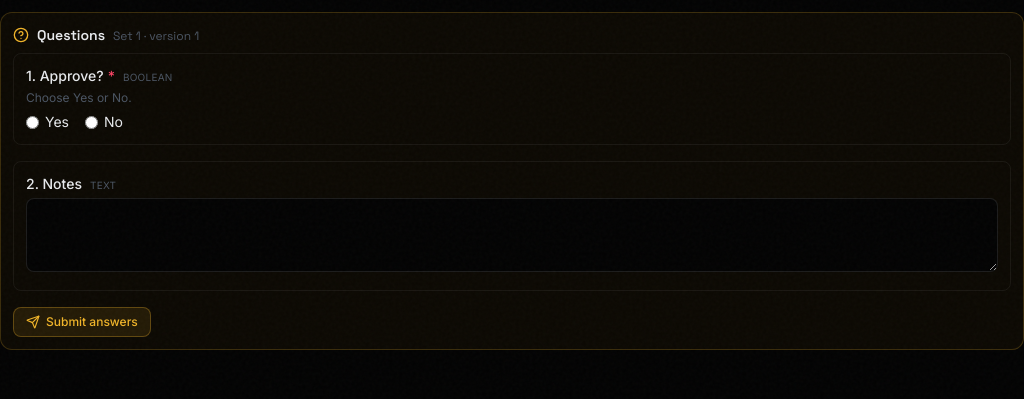
Test: MissionQuestionCard — draft persistence & recovery › shows a refresh message on 412 RUN_VERSION_MISMATCH without applying
The image size is (1024, 399).
Click the radio button labelled "Yes" at (32,122), box [26,116,39,128]
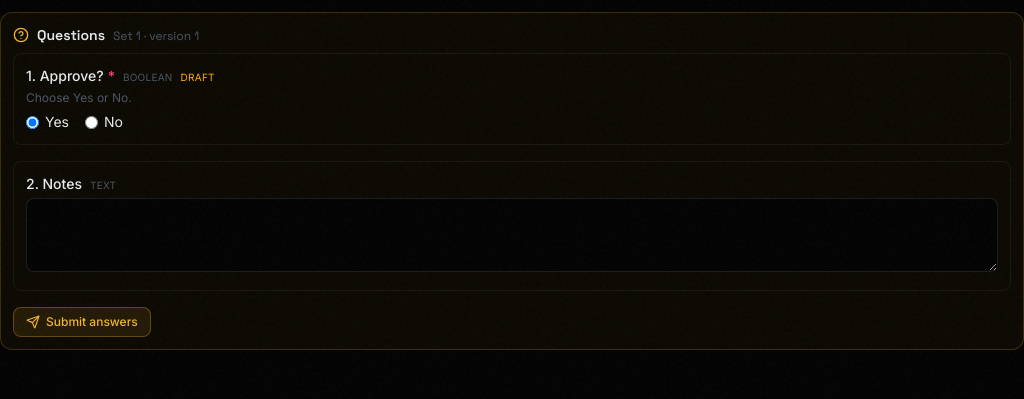
Click the button "Submit answers" at (82,322), box [13,307,151,337]
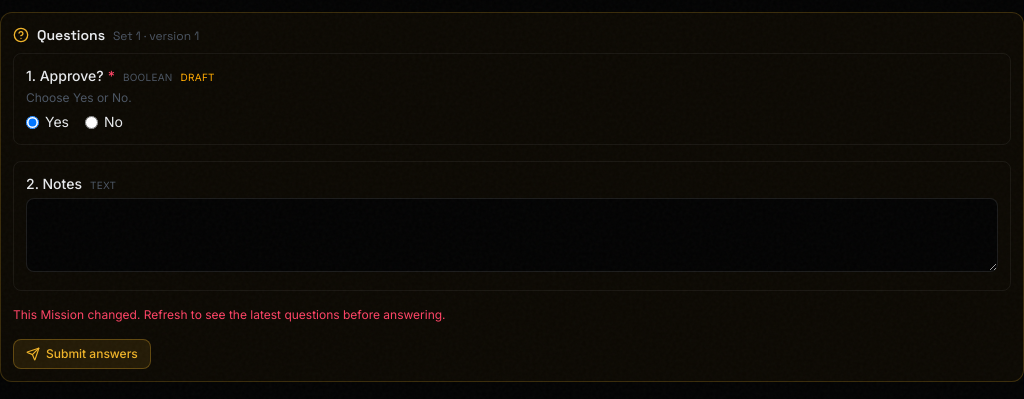
Now the message reads "This Mission changed. Refresh to see the latest questions before answering.", box [13,307,446,322]
